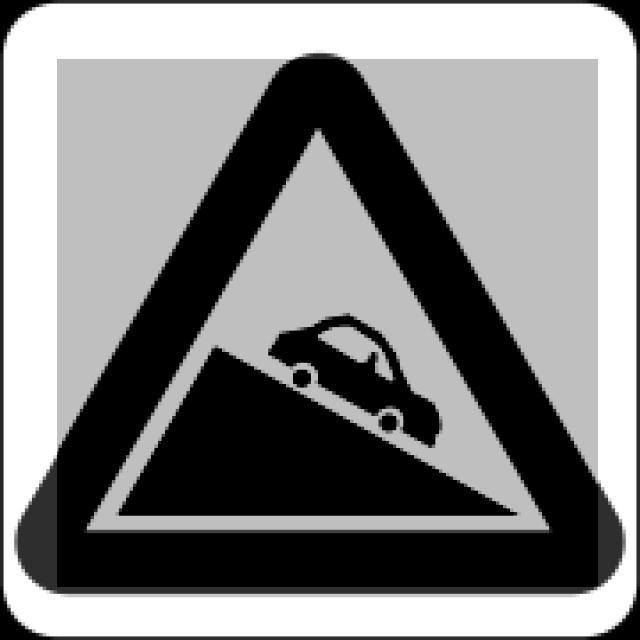steep descent: (16, 50, 625, 592)
